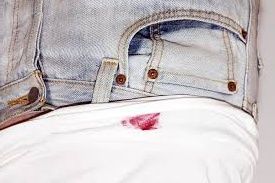lipstick: (123, 109, 165, 135)
